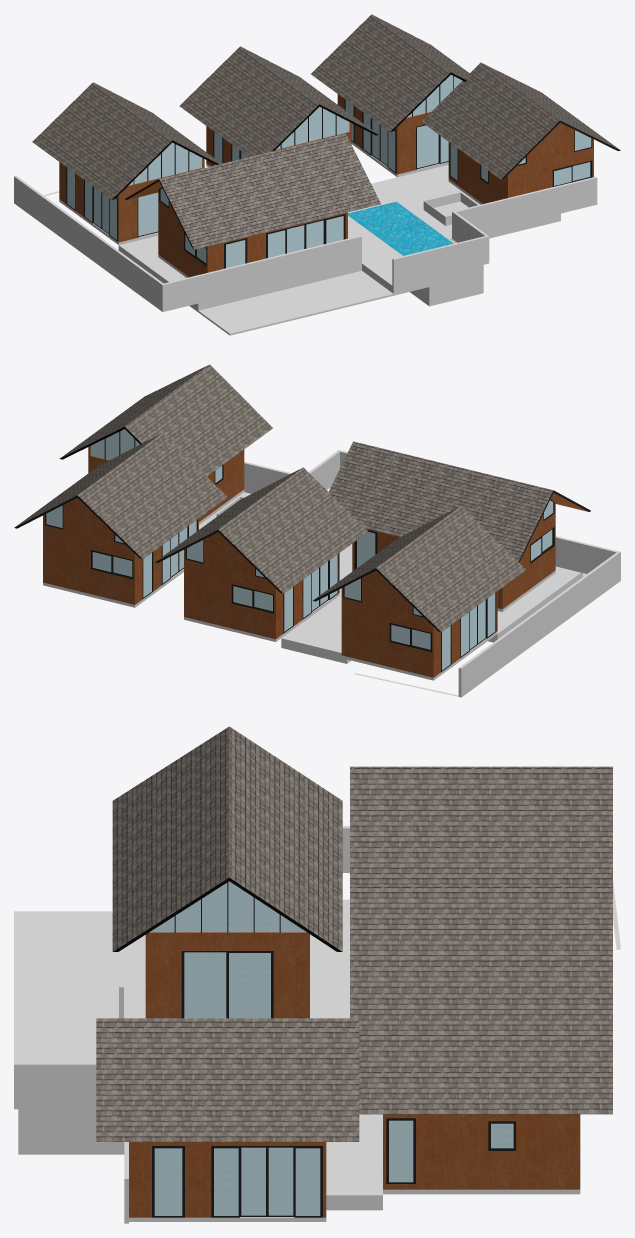
Rendered from sora.glb.
3 renders of one model, top to bottom at view 1: azimuth 30°, elevation 25°; view 2: azimuth 150°, elevation 25°; view 3: azimuth 270°, elevation 25°, orthographic. The views are drawn at different scales.
Parts seen in each view (by area): view 1: G-Object.364, G-Object.405, G-Object.280, G-Object.040, G-Object.120, G-Object.200, _G-Object.320 (Loose Mesh), G-Object.407, G-Object.406, G-Object.323, G-Object.404, G-Object.322 (+19 smaller); view 2: G-Object.364, G-Object.200, G-Object.120, G-Object.040, G-Object.280, G-Object.405, _G-Object.320 (Loose Mesh), G-Object.095, G-Object.015, G-Object.175, G-Object.406, G-Object.050 (+17 smaller); view 3: G-Object.364, G-Object.280, G-Object.040, G-Object.200, G-Object.120, _G-Object.320 (Loose Mesh), G-Object.407, G-Object.328, G-Object.222, G-Object.406, G-Object.365, G-Object.322 (+16 smaller).
Part boxes in pixels (left/top/right/bottom): G-Object.364: left=125, top=133, right=380, bottom=249; G-Object.405: left=14, top=175, right=361, bottom=311; G-Object.280: left=421, top=62, right=620, bottom=179; G-Object.040: left=32, top=82, right=221, bottom=199; G-Object.120: left=179, top=46, right=378, bottom=156; G-Object.200: left=311, top=14, right=469, bottom=131; _G-Object.320 (Loose Mesh): left=118, top=165, right=560, bottom=311; G-Object.407: left=198, top=271, right=393, bottom=335; G-Object.406: left=452, top=176, right=597, bottom=263; G-Object.323: left=348, top=201, right=453, bottom=255; G-Object.404: left=392, top=236, right=486, bottom=286; G-Object.322: left=348, top=200, right=483, bottom=306; G-Object.364: left=328, top=441, right=590, bottom=562; G-Object.200: left=14, top=433, right=227, bottom=559; G-Object.120: left=155, top=467, right=368, bottom=593; G-Object.040: left=313, top=506, right=525, bottom=632; G-Object.280: left=59, top=364, right=272, bottom=476; G-Object.405: left=458, top=536, right=620, bottom=697; _G-Object.320 (Loose Mesh): left=199, top=492, right=582, bottom=663; G-Object.095: left=185, top=559, right=273, bottom=638; G-Object.015: left=343, top=598, right=431, bottom=677; G-Object.175: left=45, top=525, right=133, bottom=604; G-Object.406: left=244, top=450, right=340, bottom=493; G-Object.050: left=362, top=570, right=412, bottom=614; G-Object.364: left=112, top=726, right=342, bottom=951; G-Object.280: left=96, top=1018, right=359, bottom=1141; G-Object.040: left=350, top=766, right=612, bottom=885; G-Object.200: left=350, top=992, right=612, bottom=1114; G-Object.120: left=350, top=885, right=612, bottom=991; _G-Object.320 (Loose Mesh): left=19, top=899, right=382, bottom=1210; G-Object.407: left=14, top=911, right=118, bottom=1031; G-Object.328: left=148, top=932, right=309, bottom=1018; G-Object.222: left=386, top=1114, right=484, bottom=1189; G-Object.406: left=14, top=1062, right=128, bottom=1223; G-Object.365: left=150, top=881, right=306, bottom=932; G-Object.322: left=18, top=1062, right=124, bottom=1154.
Bounding box in the file's own units: 26.28 × 7.3 × 18.46.
7 materials, 4 textured.
